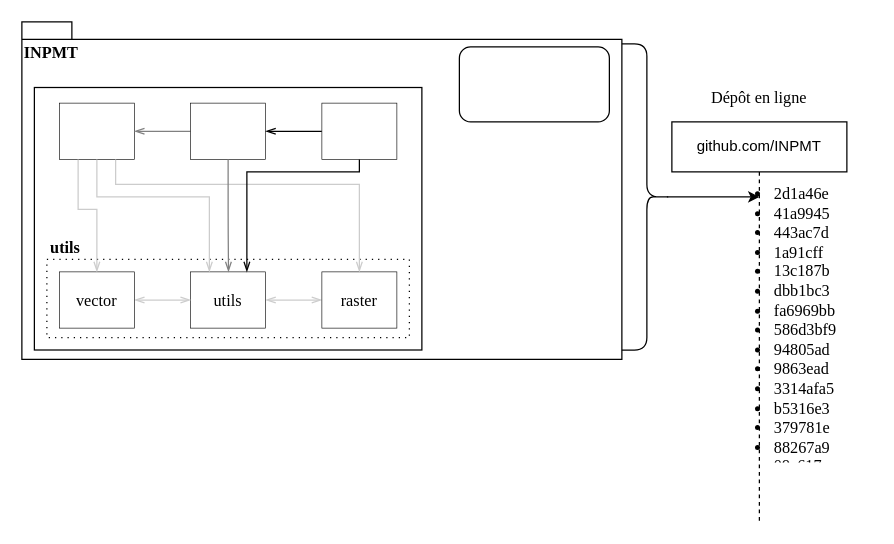
Some shapes in this 894 by 544 pixel diagram are drawn without their labels. Each missing label, with the centre of its shape:
"init" belongs at pixel 359 130.
"main" belongs at pixel 227 130.
"processing" belongs at pixel 96 130.
